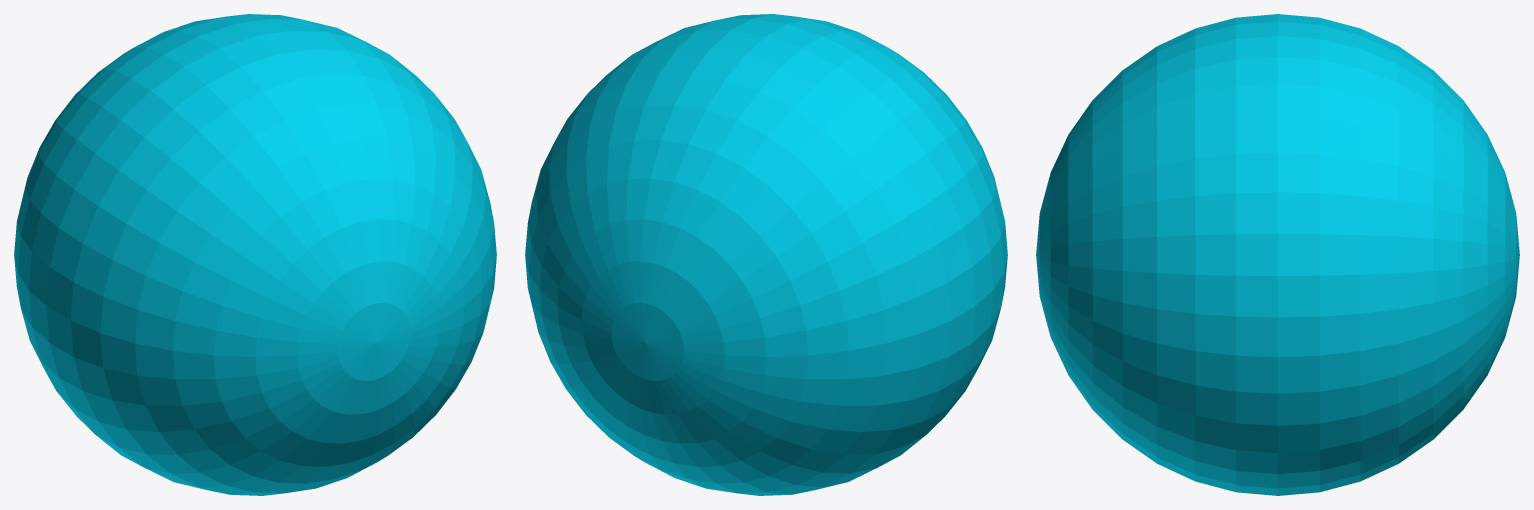
Rendered from sea.gltf.
The picture shows the model from 3 angles, left to right: view 1: azimuth 30°, elevation 25°; view 2: azimuth 150°, elevation 25°; view 3: azimuth 270°, elevation 25°; orthographic projection.
Visible parts, largest first — view 1: Node1; view 2: Node1; view 3: Node1.
Boxes of the visible parts, left/top/right/bottom form: Node1: left=14, top=14, right=496, bottom=495; Node1: left=525, top=14, right=1007, bottom=495; Node1: left=1036, top=14, right=1519, bottom=495.
Size of the model in its own units: 34 by 34 by 34.
